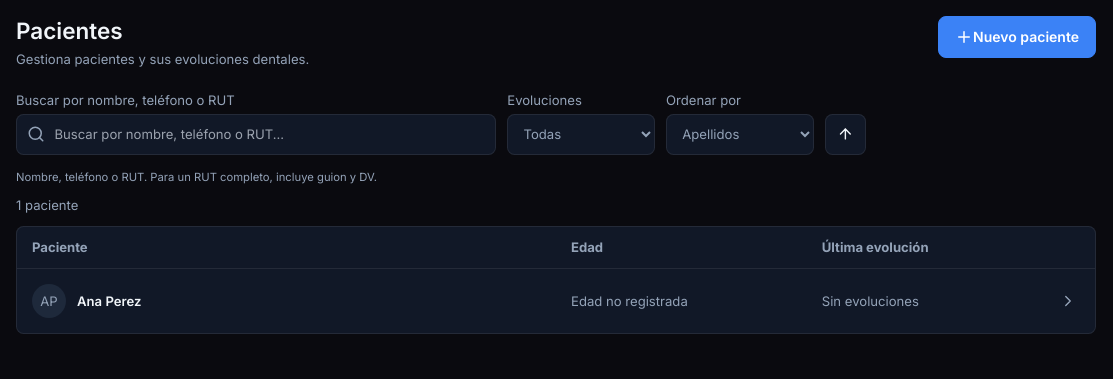
Test: Patients birth-date dialog › distinguishes a search with no results and can clear it
Check: the link "AP Ana Perez" is shown, box [32, 284, 141, 318]
Type "inexistente" into the field with placeholder "Buscar por nombre, teléfono o RUT...".
click(256, 134); type("inexistente")  # box [16, 114, 496, 155]
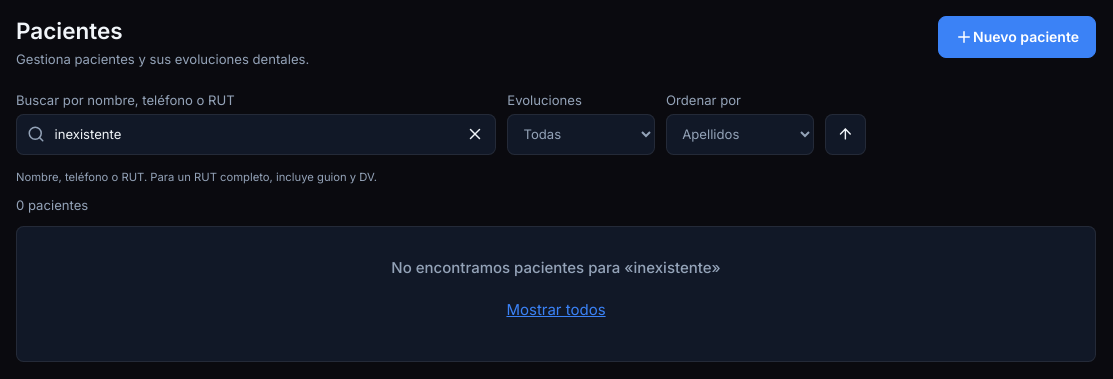
Check: the text "No encontramos pacientes para «inexistente»" is shown, box [391, 258, 721, 277]
Click the button named "Limpiar búsqueda".
click(475, 134)  # box [455, 114, 496, 155]
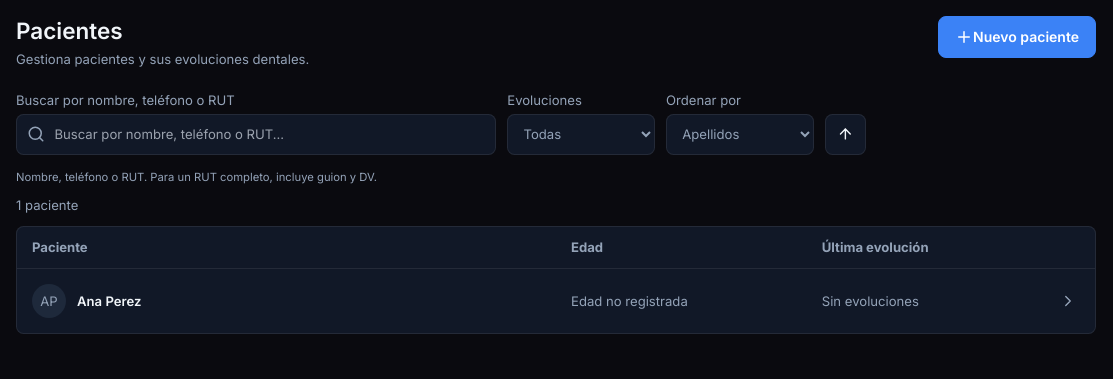
Check: the field with placeholder "Buscar por nombre, teléfono o RUT..." is empty, box [16, 114, 496, 155]
